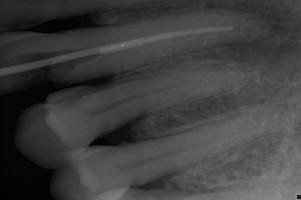Furcation Involvement: (192, 0, 301, 63)
